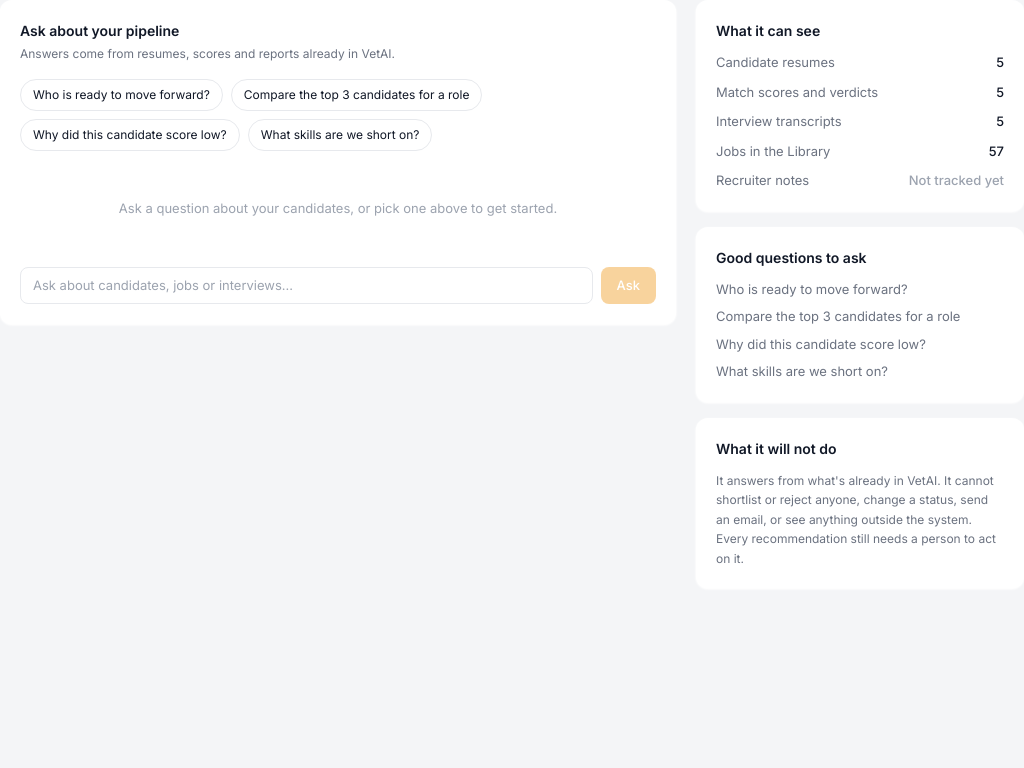
Test: AIAssistantView › sends the real, capped candidate context alongside the question and renders the answer
The image size is (1024, 768).
In the field with placeholder "Ask about candidates, jobs or interviews...": (306, 285) 20,266 -> 593,304, type "Who is the top candidate?"
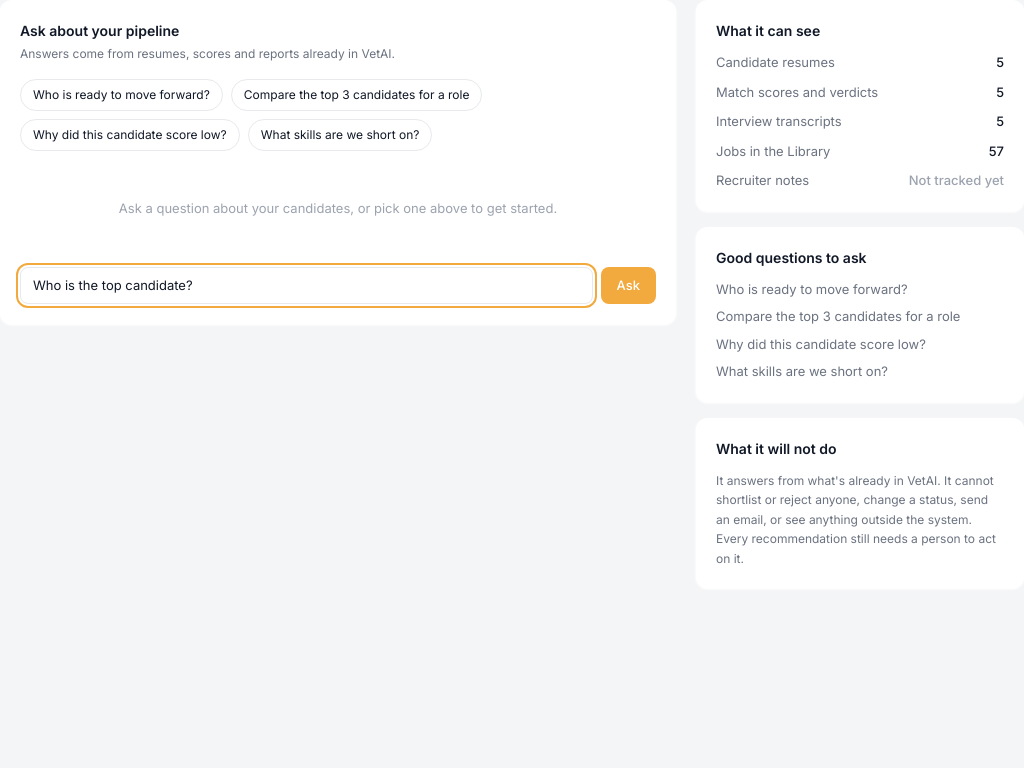
Click the button "Ask": (628, 285) 601,266 -> 656,304
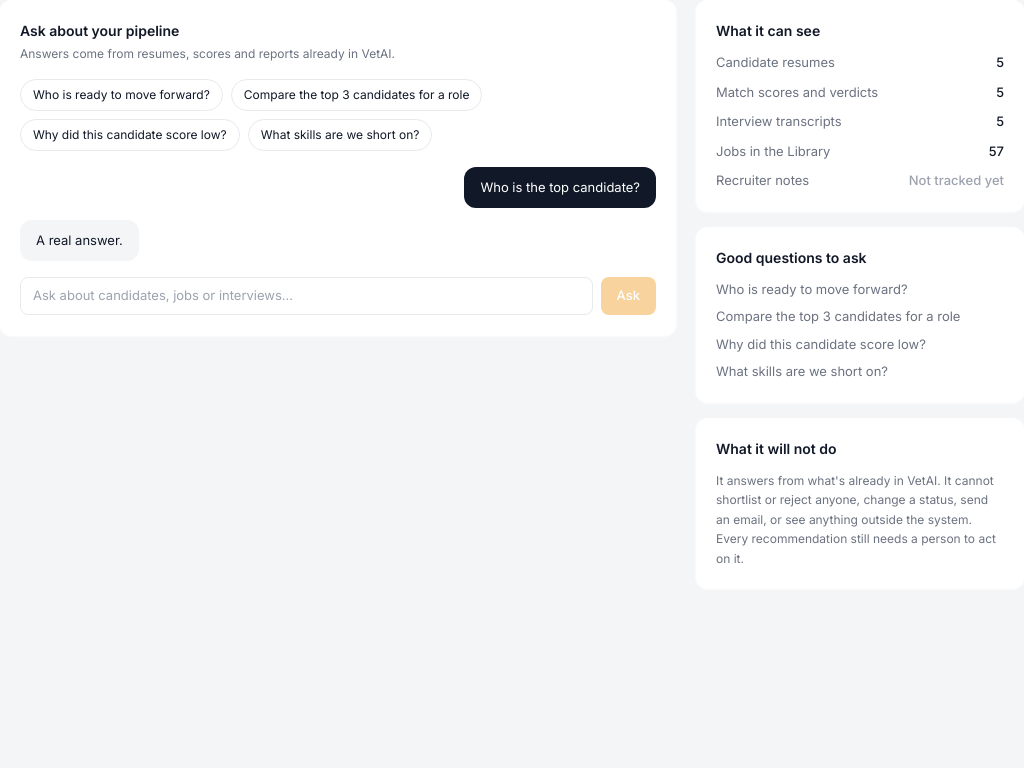
Expected: the text "A real answer." is shown, 20,220 -> 139,261
Expected: the text "Who is the top candidate?" is shown, 464,167 -> 656,208
